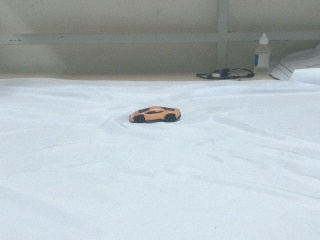bottle: (253, 33, 270, 75)
toy_car: (128, 105, 182, 124)
